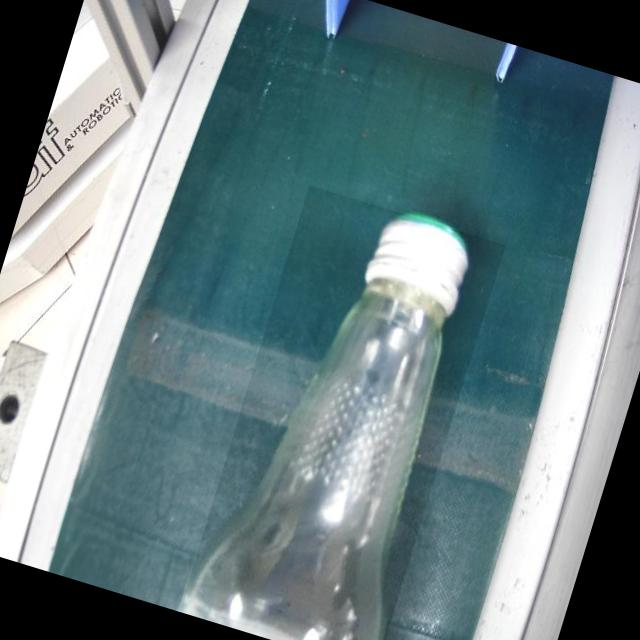BotolKaca: (175, 179, 507, 640)
